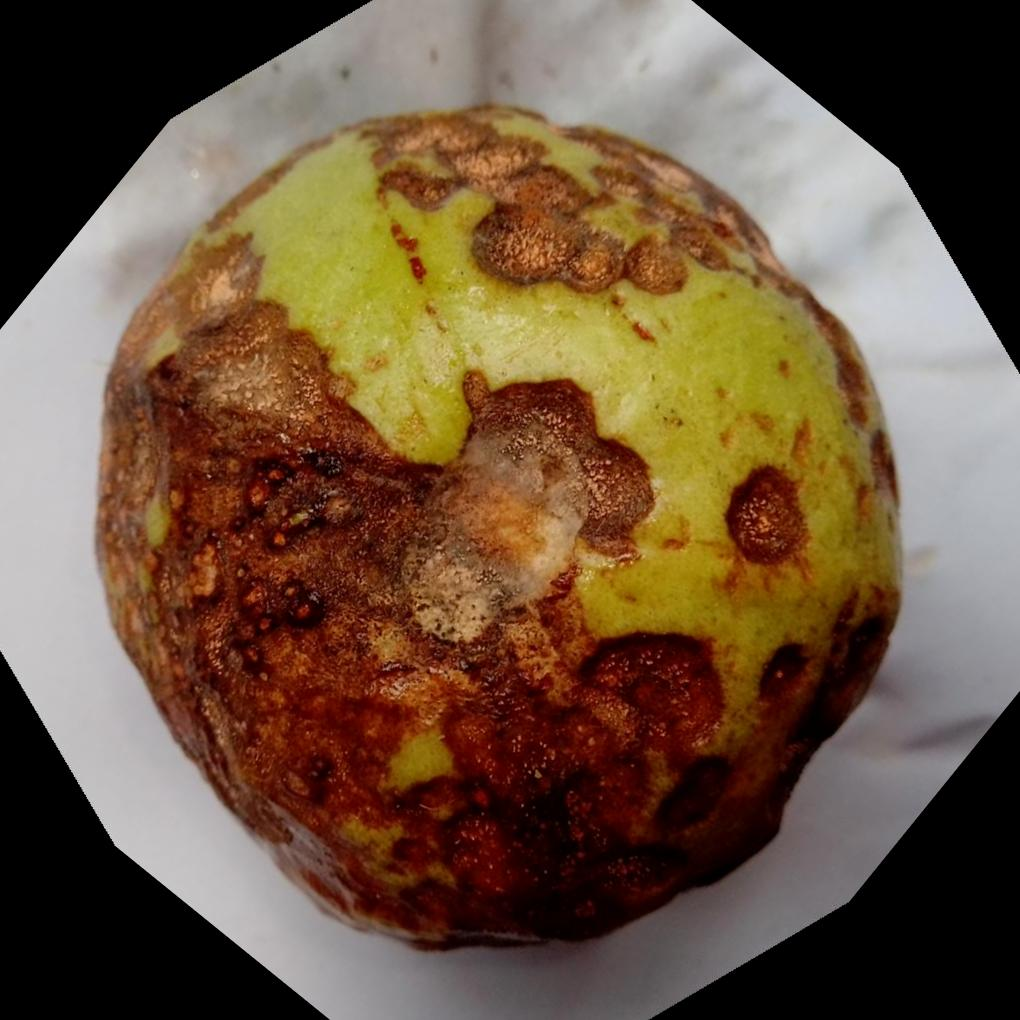FreshOrange: (89, 102, 904, 958)
